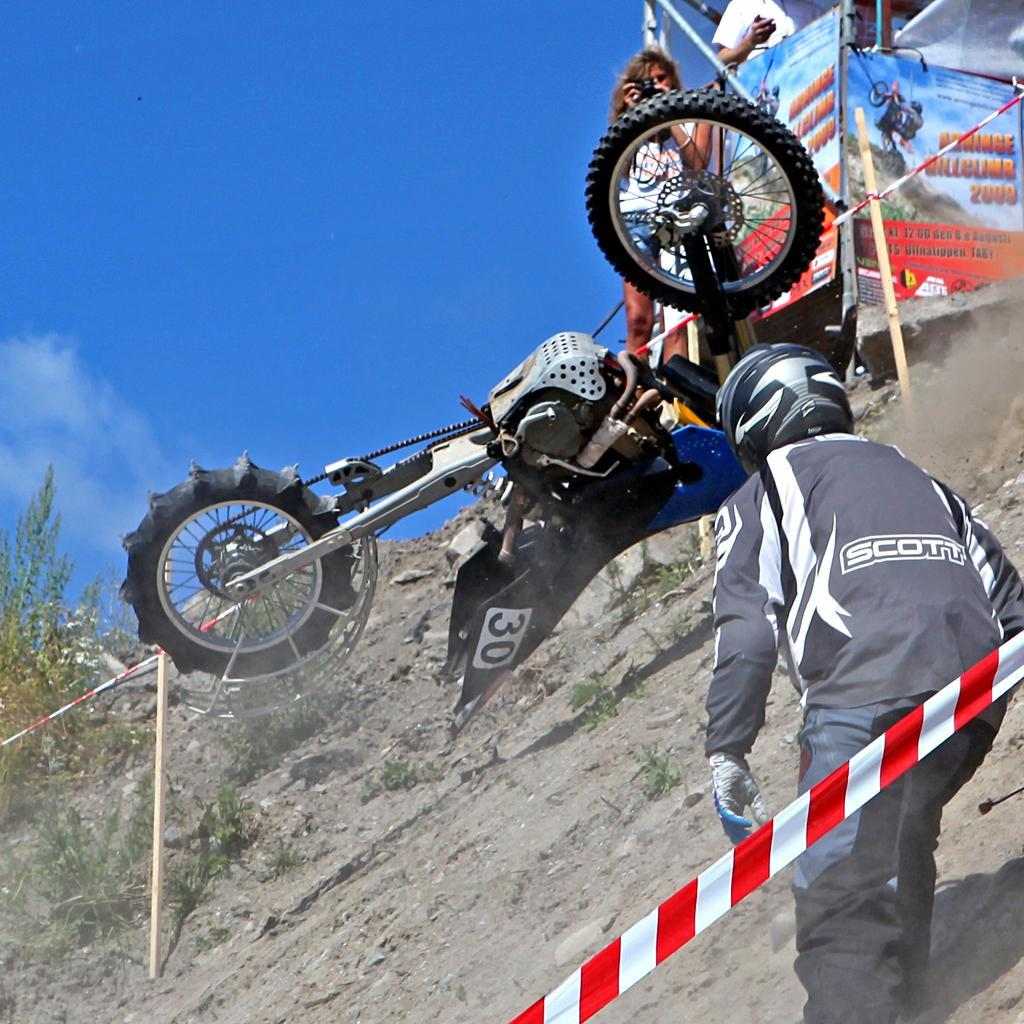helmet: (714, 340, 856, 479)
